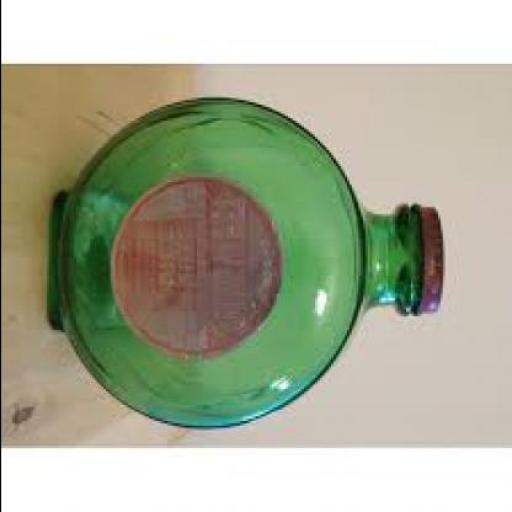glass: (50, 98, 424, 432)
metal: (419, 210, 444, 318)
